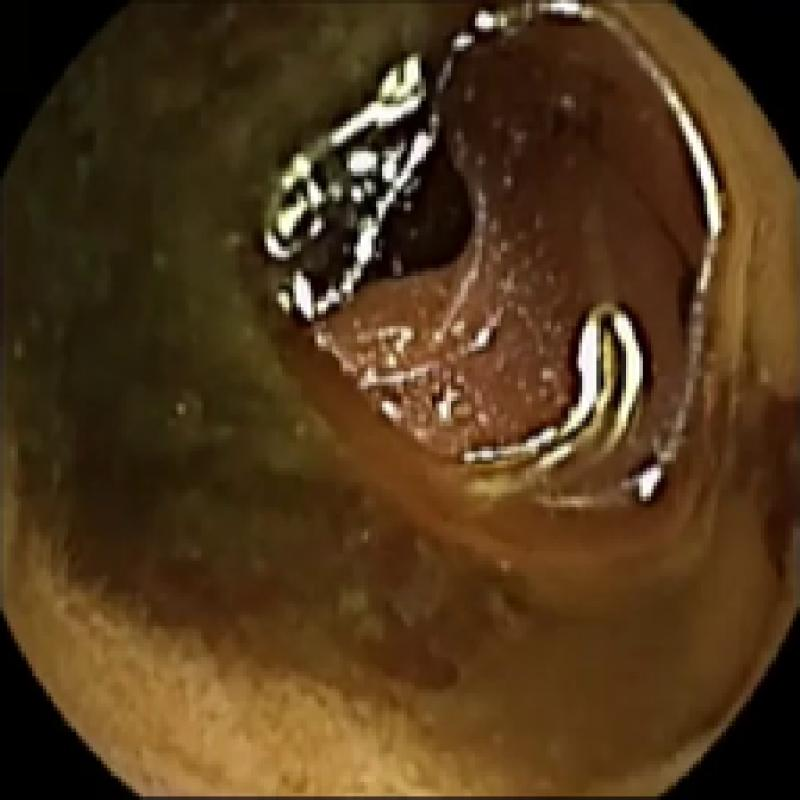bleeding: (274, 100, 472, 324), (650, 96, 725, 320), (543, 77, 605, 156)
